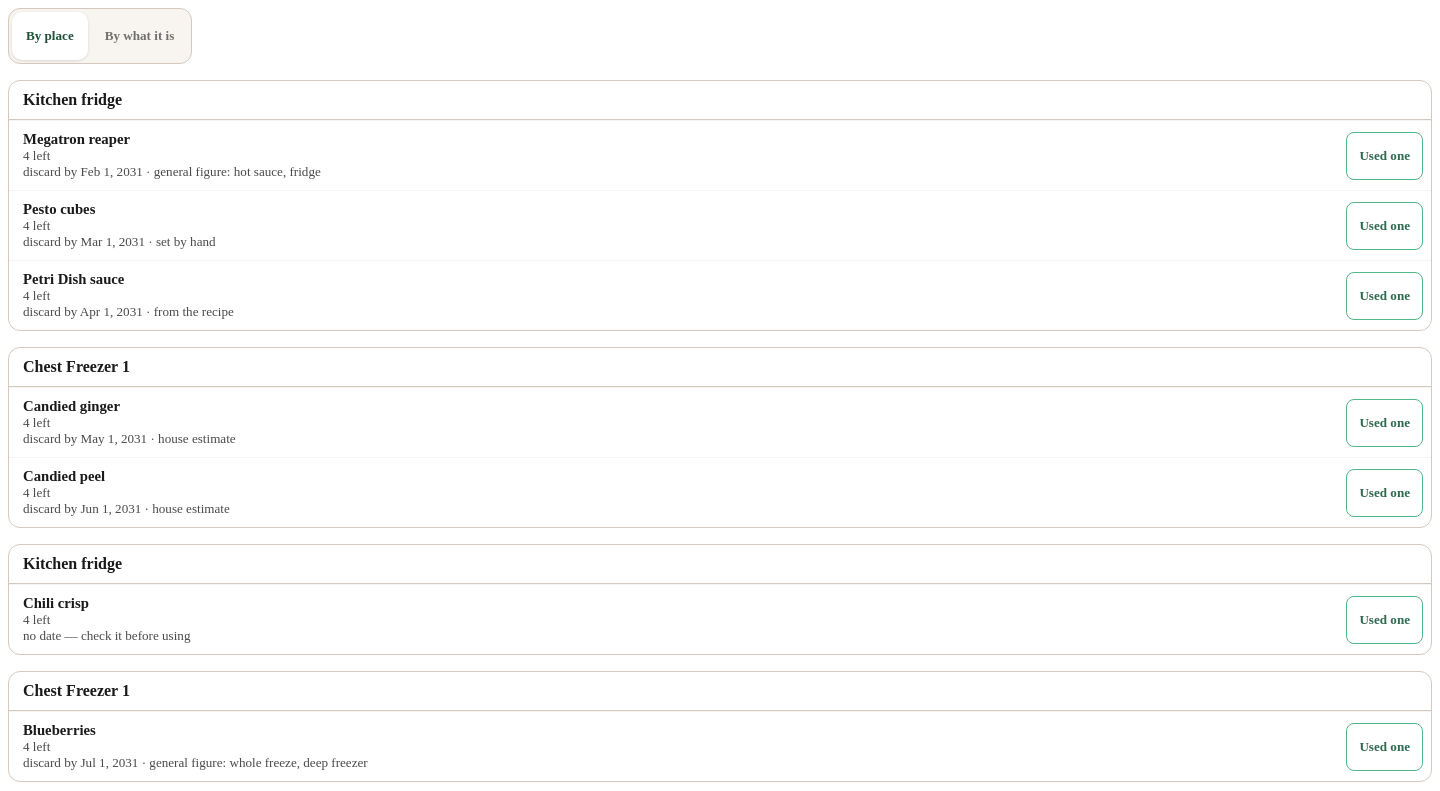
Test: after the move — one line at the top of the Pantry, from the row the server answered › a typed date stays
Click the button "Pesto cubes 4 left discard by Mar 1, 2031 · set by hand" at (59, 209), box [17, 195, 1338, 256]
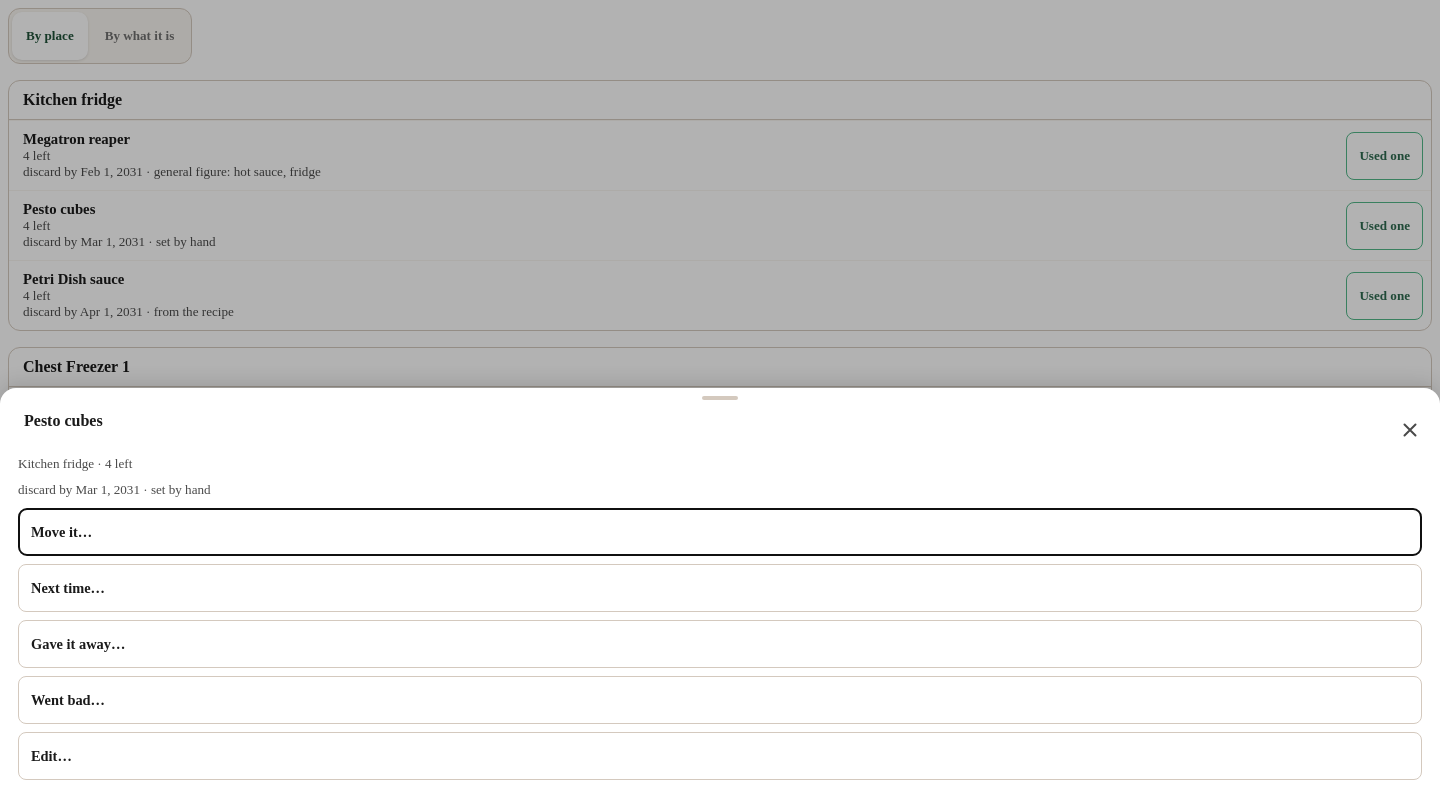
Click the button with test id "row-move" at (62, 532), box [18, 508, 1422, 556]
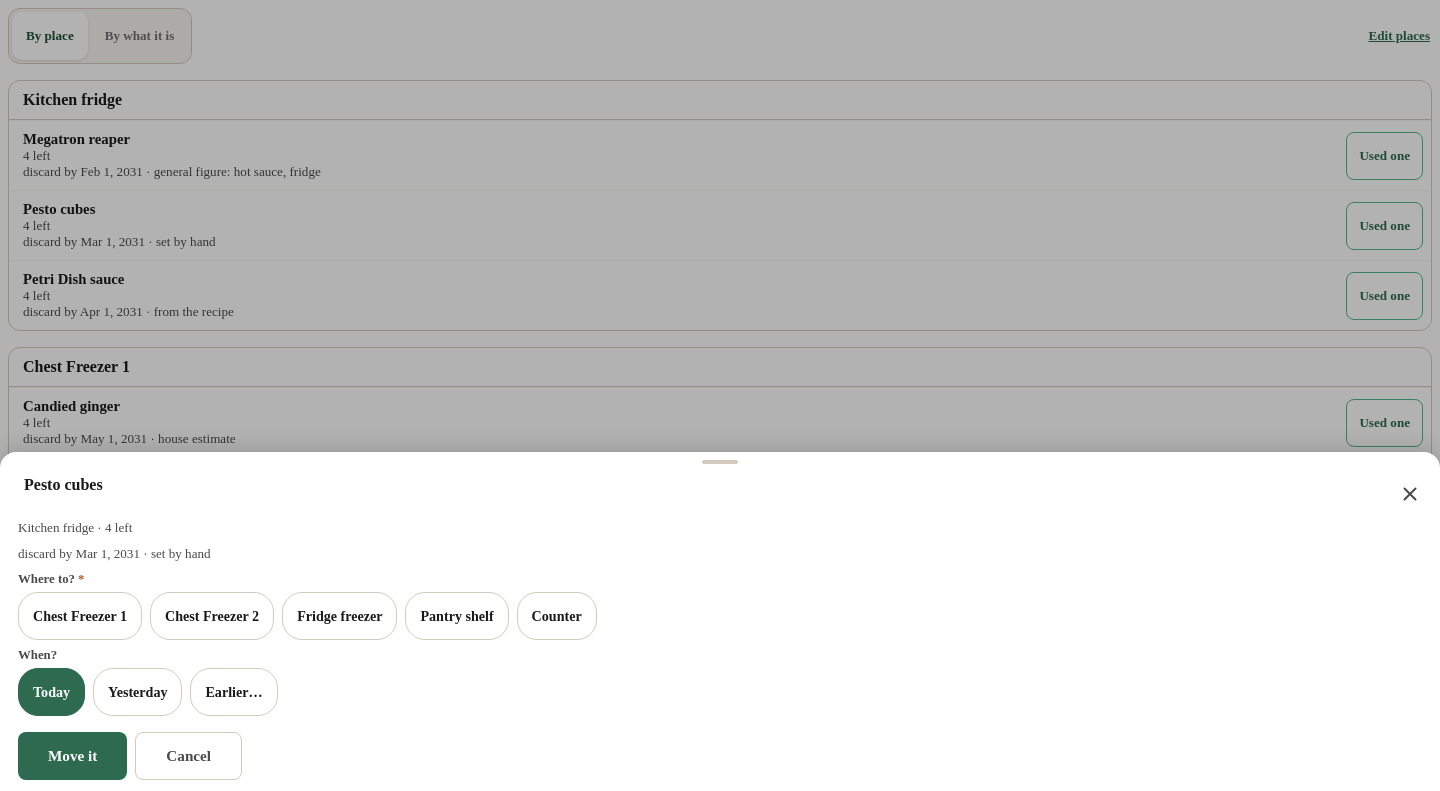
Click the radio button with test id "move-place-id:loc-1" at (80, 616), box [18, 592, 142, 640]
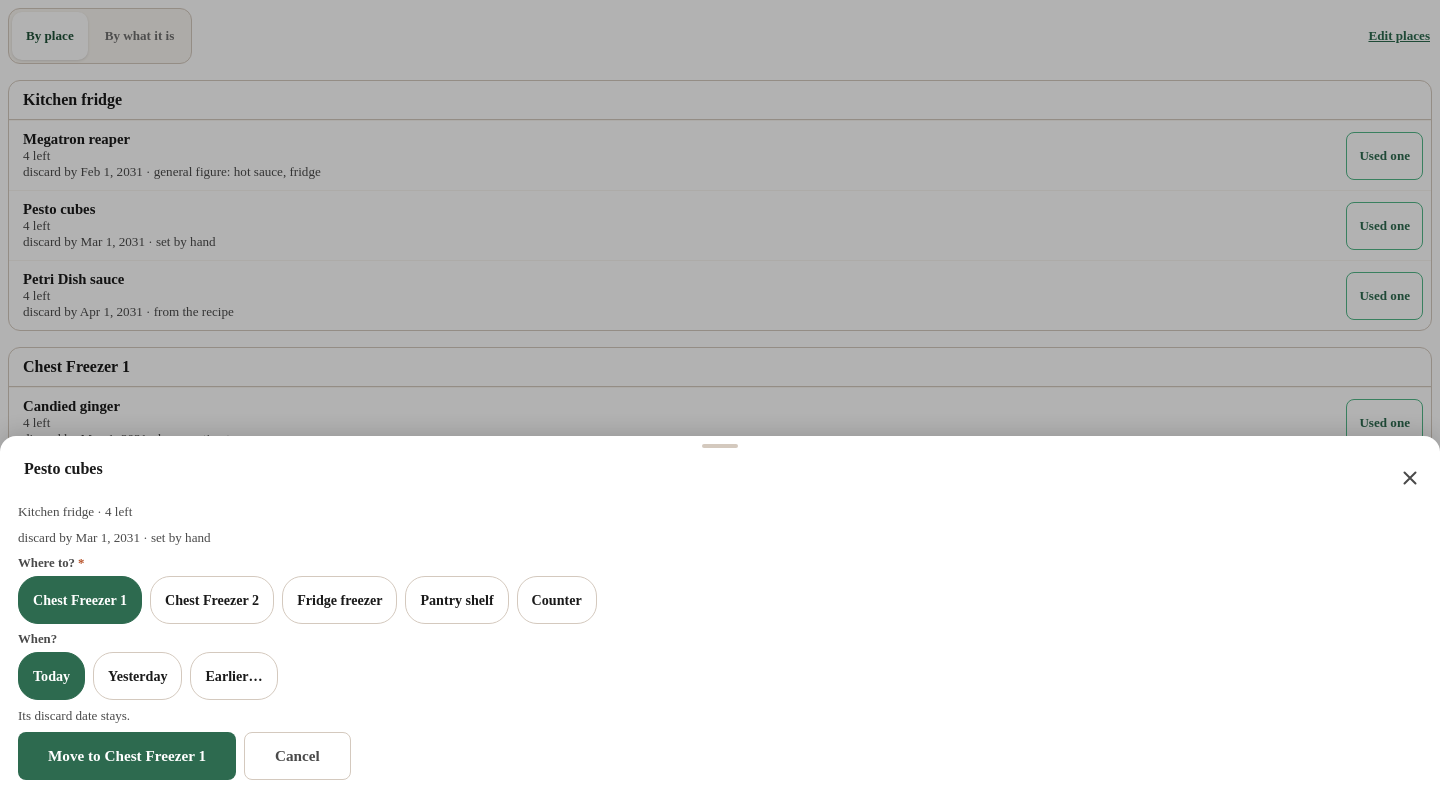
Click the button with test id "move-save" at (127, 756), box [18, 732, 236, 780]
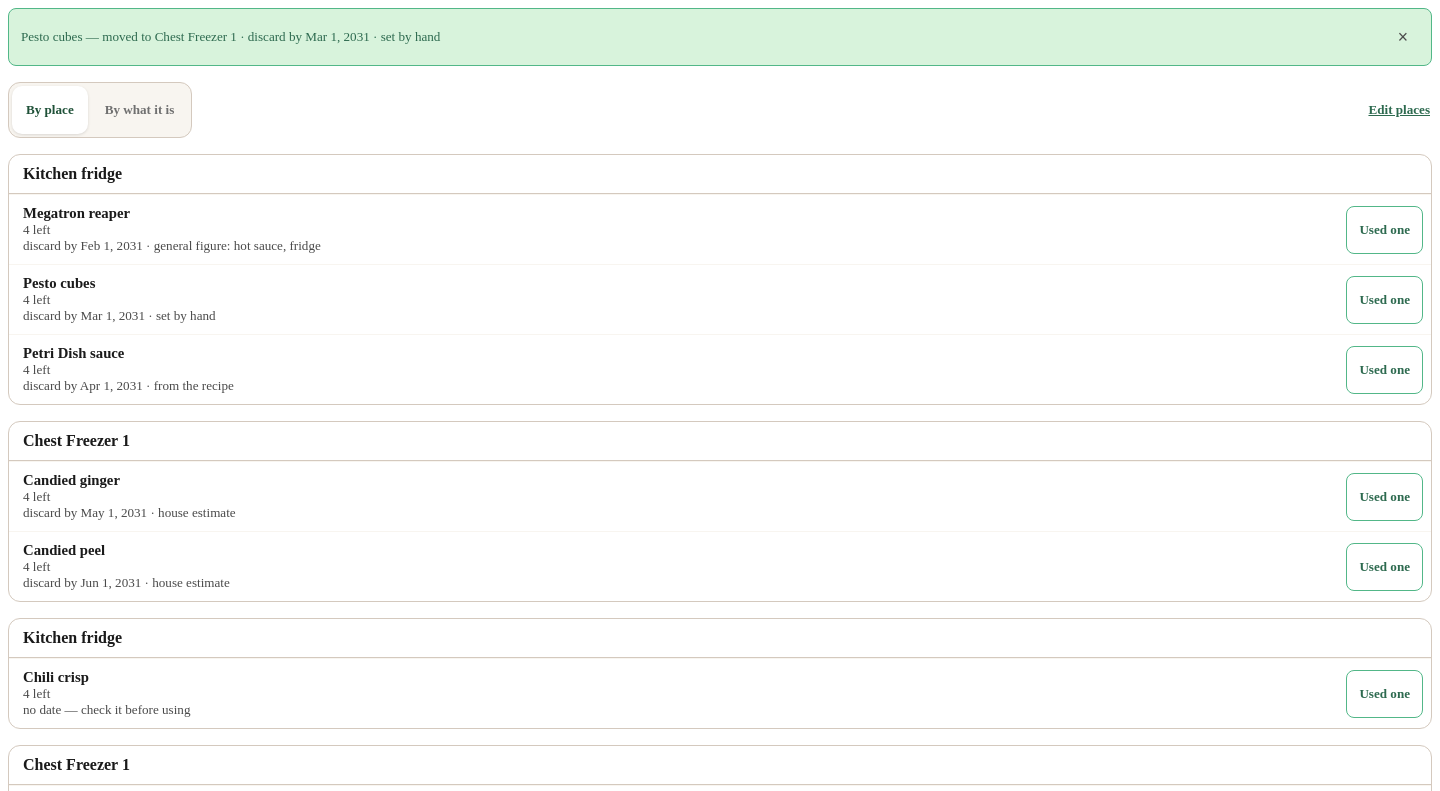
Expected: the text "Pesto cubes — moved to Chest Freezer 1 · discard by Mar 1, 2031 · set by hand" is shown, [21, 29, 440, 44]
